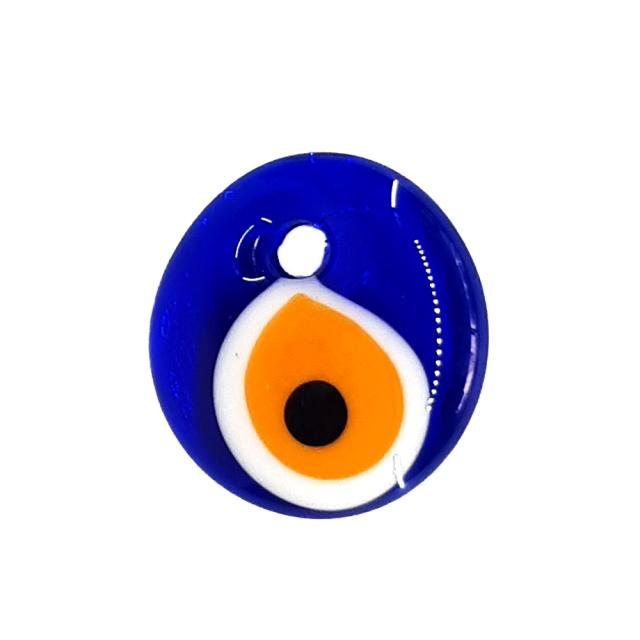Nazar-Boncugu: (147, 152, 492, 521)
